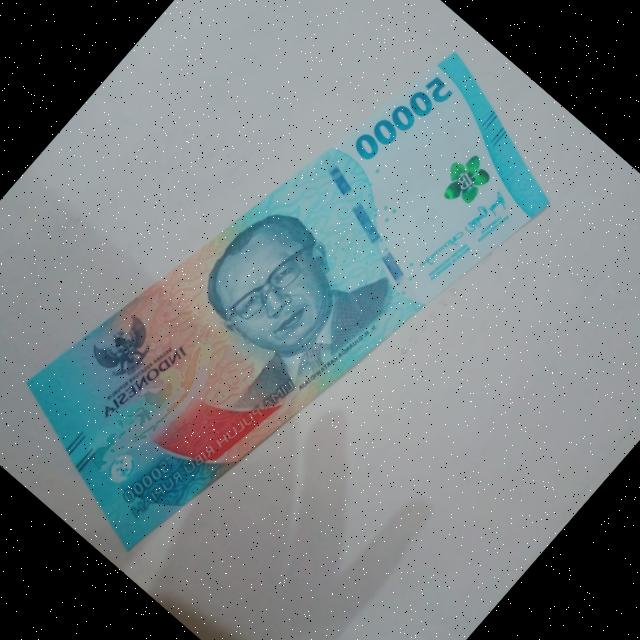50K: (0, 0, 590, 620)
